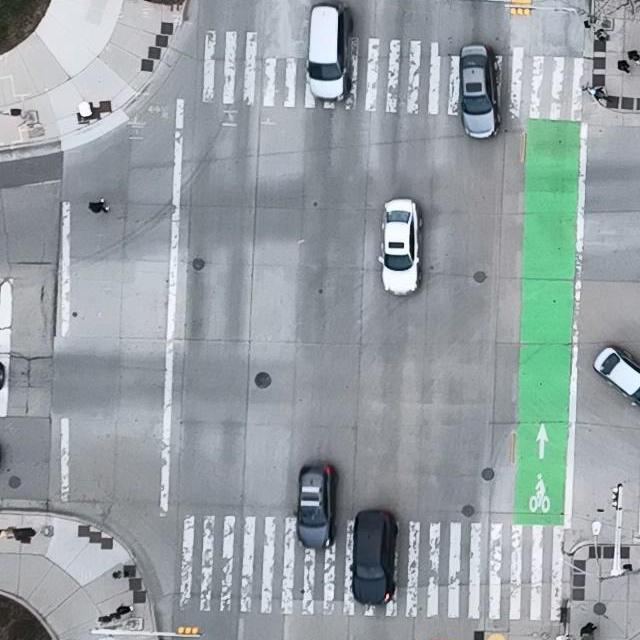car: (349, 510, 397, 607), (305, 3, 351, 103), (378, 197, 423, 298), (458, 45, 501, 139), (294, 463, 338, 549), (592, 345, 640, 409)
